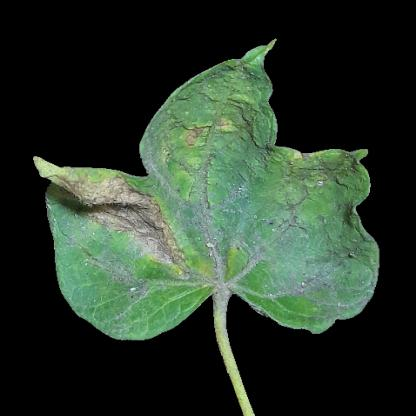curl_stage1: (191, 251, 255, 291), (174, 117, 245, 149)
sooty: (84, 188, 173, 256)
